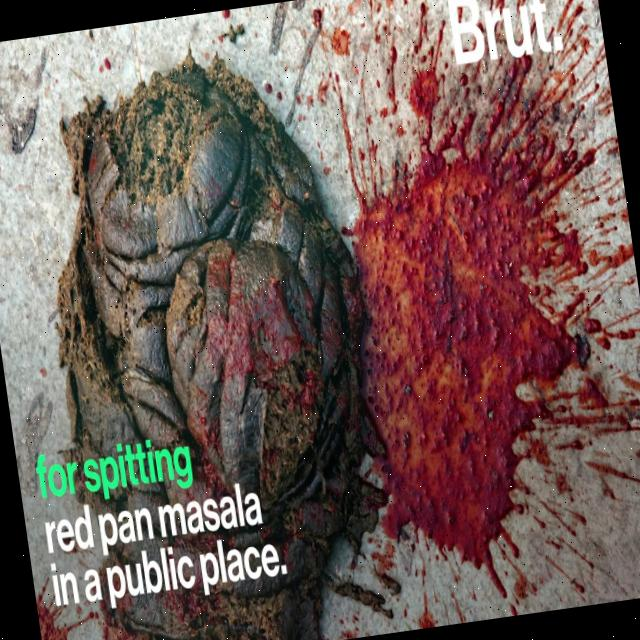spit: (339, 106, 609, 554)
